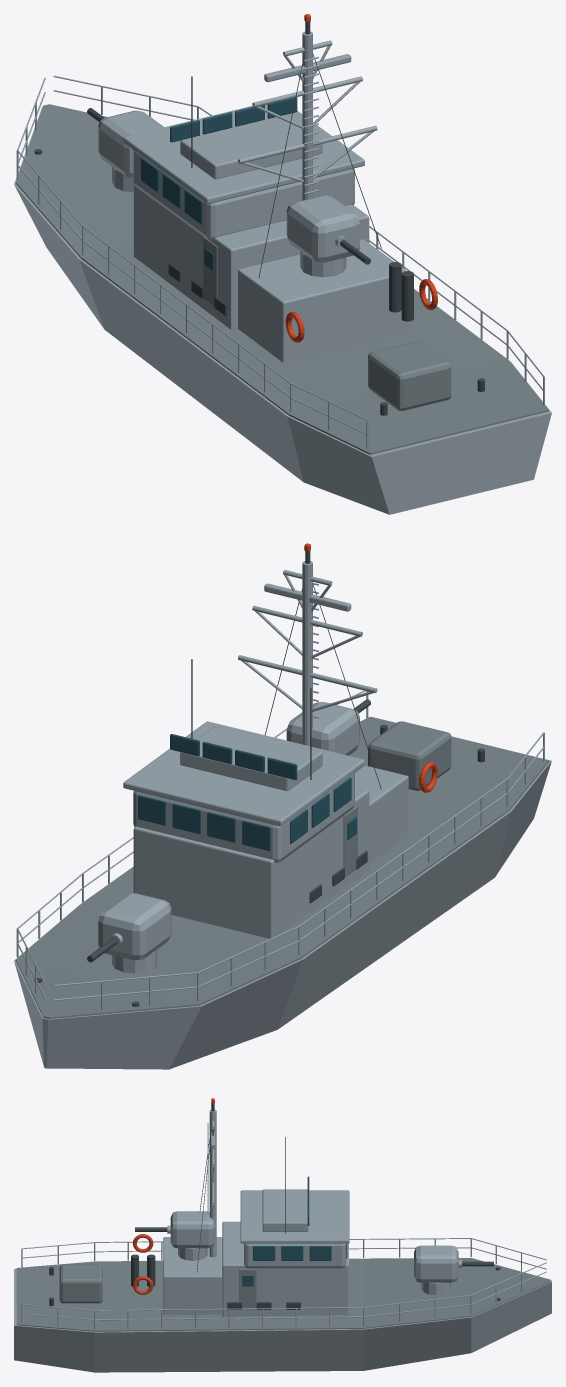
File: PatrolBoat.fbx
The picture shows the model from 3 angles, top to bottom: view 1: azimuth 30°, elevation 25°; view 2: azimuth 150°, elevation 25°; view 3: azimuth 270°, elevation 25°; orthographic projection. The views are drawn at different scales.
Parts seen in each view (by area): view 1: Deck_surface, Hull_fixed_10x3_grid_envelope, Aft_deckhouse, Bridge_lower, Bridge_roof, Wheelhouse, Flying_bridge, Stern_equipment, Armored_turret.001, Armored_turret, Main_mast, Bridge_door (+5 smaller); view 2: Deck_surface, Hull_fixed_10x3_grid_envelope, Bridge_lower, Bridge_roof, Flying_bridge, Wheelhouse, Stern_equipment, Armored_turret, Aft_deckhouse, Armored_turret.001, Main_mast, Bridge_door (+7 smaller); view 3: Hull_fixed_10x3_grid_envelope, Deck_surface, Bridge_lower, Bridge_roof, Aft_deckhouse, Flying_bridge, Stern_equipment, Wheelhouse, Armored_turret, Armored_turret.001, Main_mast, Bridge_door.001 (+7 smaller).
Boxes of the visible parts, left/top/right/bottom form: Deck_surface: left=15, top=104, right=549, bottom=454; Hull_fixed_10x3_grid_envelope: left=14, top=106, right=551, bottom=514; Aft_deckhouse: left=238, top=239, right=408, bottom=362; Bridge_lower: left=133, top=182, right=369, bottom=329; Bridge_roof: left=123, top=104, right=364, bottom=203; Wheelhouse: left=133, top=150, right=354, bottom=240; Flying_bridge: left=180, top=114, right=322, bottom=179; Stern_equipment: left=368, top=341, right=451, bottom=410; Armored_turret.001: left=286, top=195, right=359, bottom=262; Armored_turret: left=98, top=110, right=163, bottom=177; Main_mast: left=302, top=31, right=312, bottom=200; Bridge_door: left=203, top=237, right=217, bottom=306; Deck_surface: left=15, top=716, right=549, bottom=1018; Hull_fixed_10x3_grid_envelope: left=14, top=717, right=551, bottom=1069; Bridge_lower: left=133, top=787, right=369, bottom=938; Bridge_roof: left=123, top=721, right=364, bottom=826; Flying_bridge: left=180, top=726, right=322, bottom=790; Wheelhouse: left=133, top=773, right=354, bottom=862; Stern_equipment: left=368, top=721, right=451, bottom=790; Armored_turret: left=98, top=893, right=171, bottom=960; Aft_deckhouse: left=355, top=765, right=408, bottom=863; Armored_turret.001: left=286, top=702, right=359, bottom=755; Main_mast: left=302, top=561, right=312, bottom=746; Bridge_door: left=343, top=806, right=357, bottom=876; Hull_fixed_10x3_grid_envelope: left=14, top=1268, right=551, bottom=1372; Deck_surface: left=16, top=1258, right=550, bottom=1331; Bridge_lower: left=222, top=1221, right=348, bottom=1316; Bridge_roof: left=240, top=1190, right=349, bottom=1243; Aft_deckhouse: left=163, top=1237, right=222, bottom=1315; Flying_bridge: left=262, top=1189, right=308, bottom=1231; Stern_equipment: left=59, top=1264, right=102, bottom=1303; Wheelhouse: left=244, top=1243, right=346, bottom=1268; Armored_turret: left=414, top=1245, right=458, bottom=1282; Armored_turret.001: left=170, top=1211, right=214, bottom=1248; Main_mast: left=209, top=1110, right=216, bottom=1257; Bridge_door.001: left=239, top=1269, right=256, bottom=1308.
Bounding box in the file's own units: 620 × 1005 × 2000.
